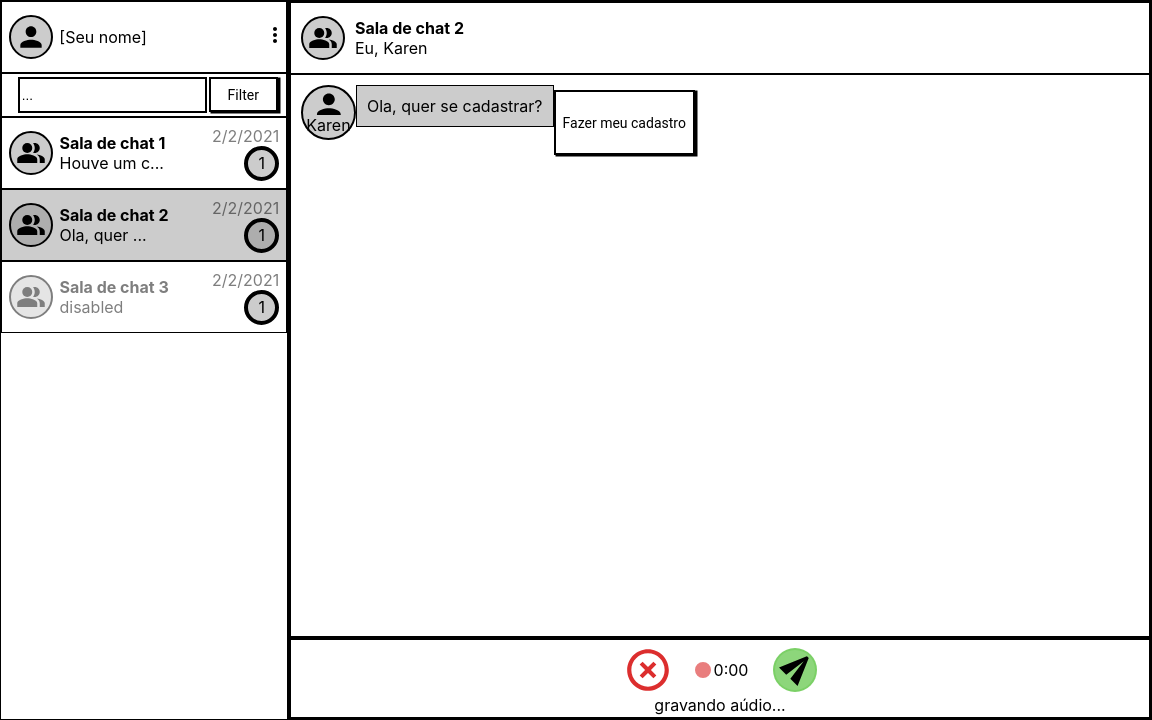
Test Microphone Interaction › Canceling recording › click on cancel button and get defaultActionBar in the screen
This screenshot has width=1152, height=720.
Click the icon with test id "RecordAudioActionBarStop". click: (648, 670)
box: left=623, top=645, right=673, bottom=695
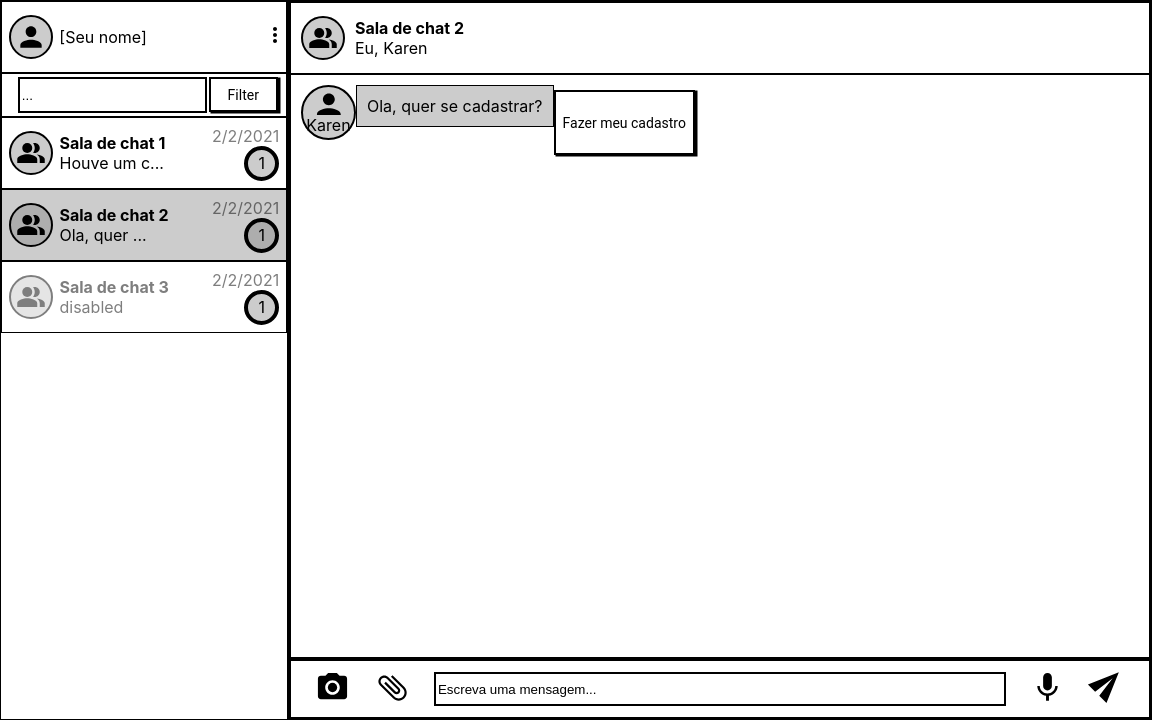
Result: the element with test id "RecordAudioActionBar" is gone
Result: the element with test id "DefaultActionBar" is shown at left=291, top=661, right=1149, bottom=717
